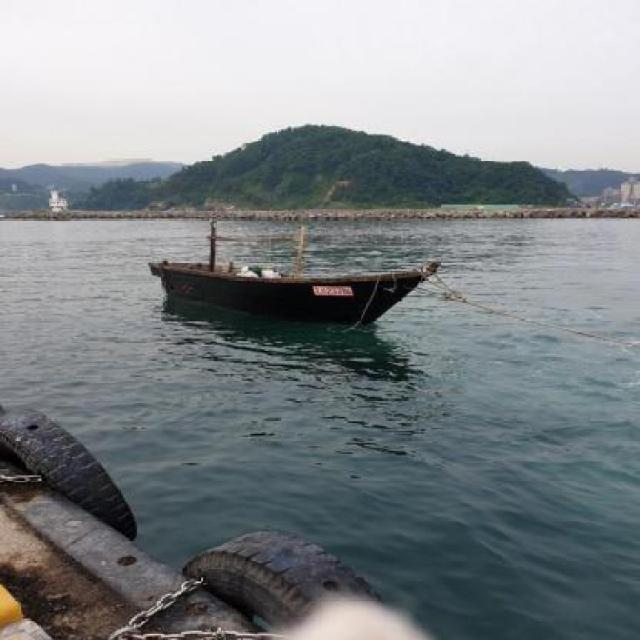fish-b: (136, 216, 457, 341)
